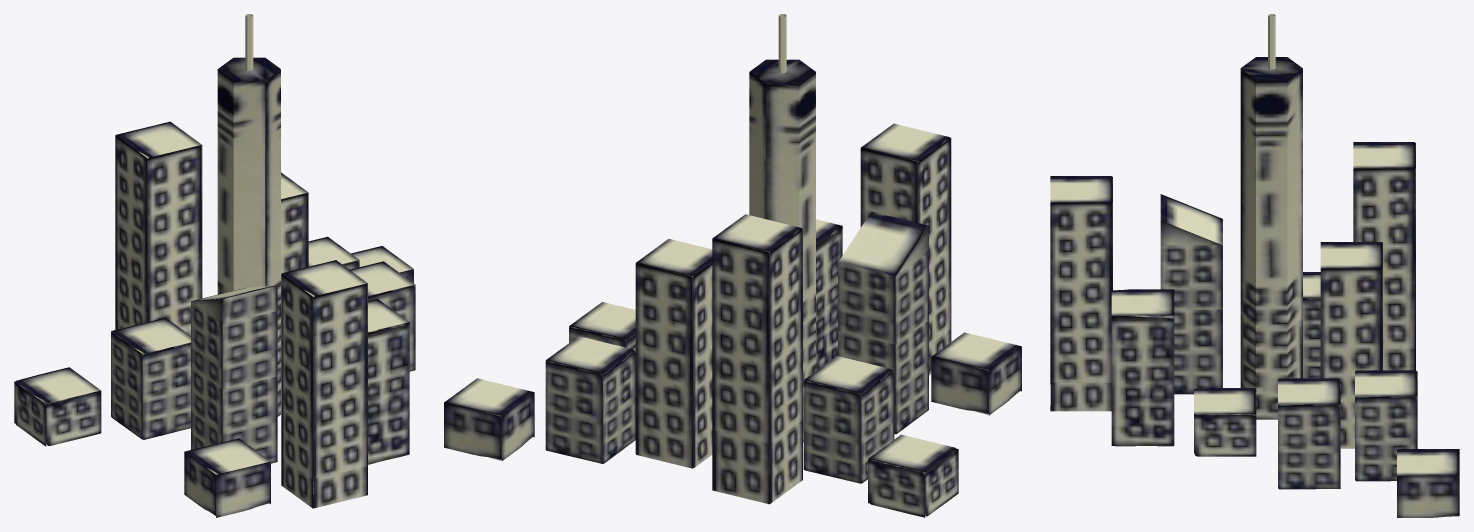
The model's file is amnestyartfarm.dae.
3 renders of one model, left to right at view 1: azimuth 30°, elevation 25°; view 2: azimuth 150°, elevation 25°; view 3: azimuth 270°, elevation 25°, orthographic. The views are drawn at different scales.
Parts seen in each view (by area): view 1: Plane.007, Plane.006, Circle, Plane.008, Plane.010, Plane.003, Plane.009, Plane.011, Plane.002, Plane.004, Plane.005, Plane.001 (+1 smaller); view 2: Plane.006, Plane.002, Plane.008, Circle, Plane.007, Plane.005, Plane.010, Plane.009, Plane.011, Plane.001, Plane.003, Plane.004; view 3: Circle, Plane.007, Plane.006, Plane.008, Plane.003, Plane.002, Plane.004, Plane.005, Plane, Plane.001, Plane.010.
Boxes of the visible parts, <box> form: Plane.007: <box>281,260,367,508</box>; Plane.006: <box>115,121,202,335</box>; Circle: <box>217,57,280,416</box>; Plane.008: <box>191,285,277,463</box>; Plane.010: <box>111,317,190,439</box>; Plane.003: <box>368,299,409,464</box>; Plane.009: <box>14,367,101,446</box>; Plane.011: <box>184,438,270,517</box>; Plane.002: <box>281,172,308,382</box>; Plane.004: <box>350,261,415,371</box>; Plane.005: <box>308,236,359,269</box>; Plane.001: <box>351,246,413,282</box>; Plane.006: <box>712,214,802,504</box>; Plane.002: <box>635,239,712,468</box>; Plane.008: <box>838,211,928,434</box>; Circle: <box>749,59,815,441</box>; Plane.007: <box>860,123,951,375</box>; Plane.005: <box>545,336,635,463</box>; Plane.010: <box>803,356,894,483</box>; Plane.009: <box>868,434,958,517</box>; Plane.011: <box>931,332,1021,415</box>; Plane.001: <box>444,378,534,460</box>; Plane.003: <box>816,219,842,370</box>; Plane.004: <box>569,302,635,350</box>; Circle: <box>1240,57,1302,419</box>; Plane.007: <box>1050,176,1112,411</box>; Plane.006: <box>1353,142,1415,370</box>; Plane.008: <box>1160,194,1222,394</box>; Plane.003: <box>1111,289,1174,446</box>; Plane.002: <box>1320,242,1382,448</box>; Plane.004: <box>1278,378,1340,489</box>; Plane.005: <box>1355,370,1417,481</box>; Plane: <box>1194,388,1256,456</box>; Plane.001: <box>1397,449,1459,517</box>; Plane.010: <box>1303,272,1320,378</box>.
Size of the model in its own units: 15.06 by 13.09 by 13.87.
